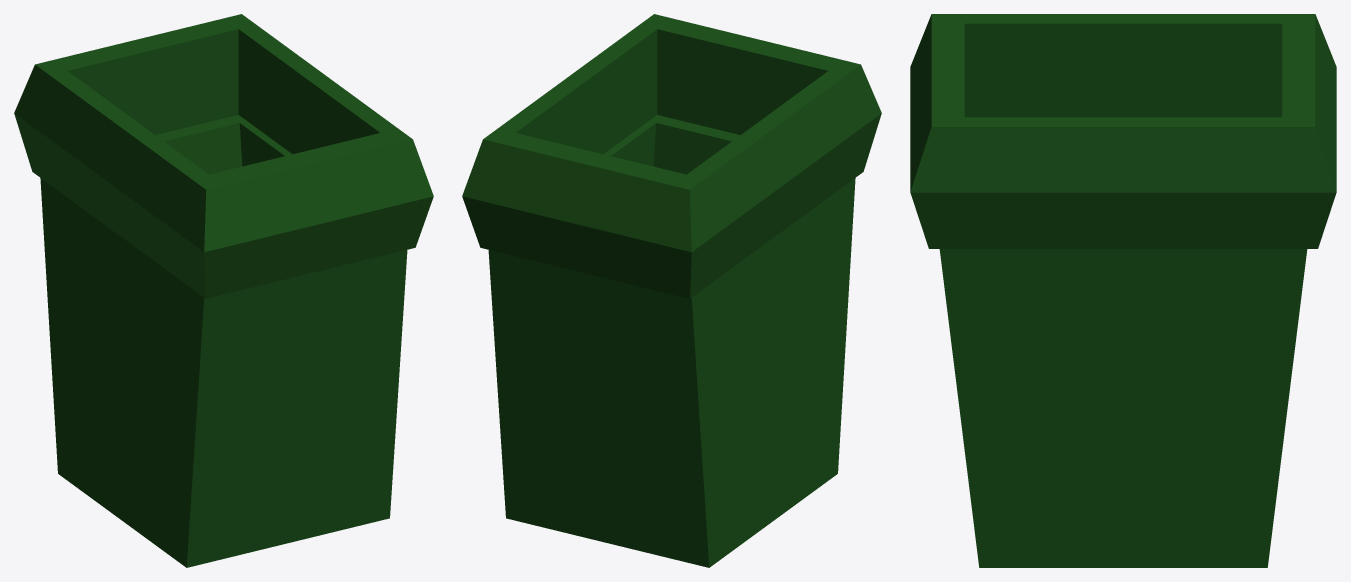
The model's file is poubelle1.fbx.
3 renders of one model, left to right at view 1: azimuth 30°, elevation 25°; view 2: azimuth 150°, elevation 25°; view 3: azimuth 270°, elevation 25°, orthographic. The views are drawn at different scales.
Visible parts, largest first — view 1: Cube; view 2: Cube; view 3: Cube.
Boxes of the visible parts, box(x1,y1,x2,y2) form: Cube: box(14, 14, 433, 567); Cube: box(462, 14, 881, 567); Cube: box(910, 14, 1336, 567).
Bounding box in the file's own units: 160 × 262 × 229.
